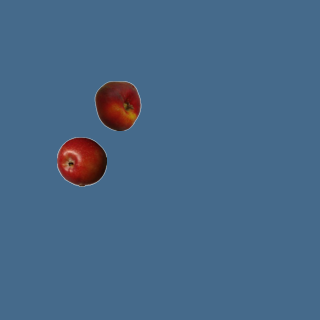Apple Braeburn: (56, 136, 106, 186)
Nectarine Flat: (92, 80, 142, 130)
